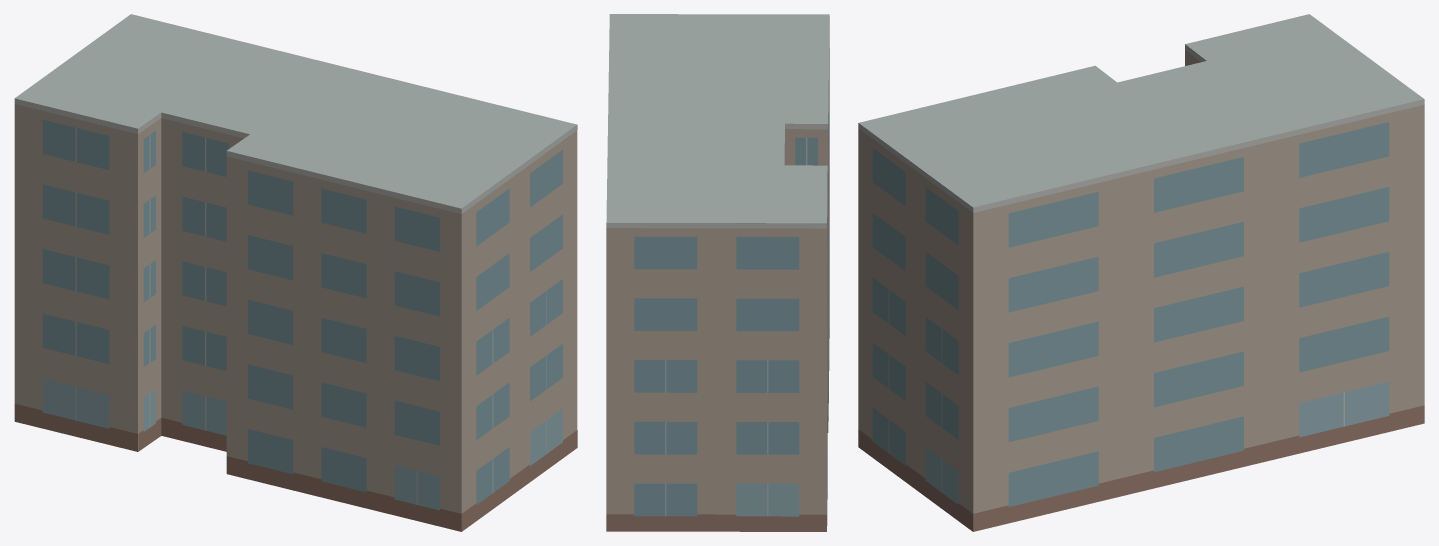
File: survey-upis-33028135.glb
3 views of the same model, side by side, from view 1: azimuth 30°, elevation 25°; view 2: azimuth 150°, elevation 25°; view 3: azimuth 270°, elevation 25° (orthographic). The views are drawn at different scales.
Visible parts, largest first — view 1: survey-upis-33028135.tmp; view 2: survey-upis-33028135.tmp; view 3: survey-upis-33028135.tmp.
Boxes of the visible parts, bbox=[...] form: survey-upis-33028135.tmp: bbox=[14, 14, 577, 531]; survey-upis-33028135.tmp: bbox=[606, 14, 829, 531]; survey-upis-33028135.tmp: bbox=[858, 14, 1424, 531].
Bounding box in the file's own units: 18.31 × 14.3 × 22.63.
